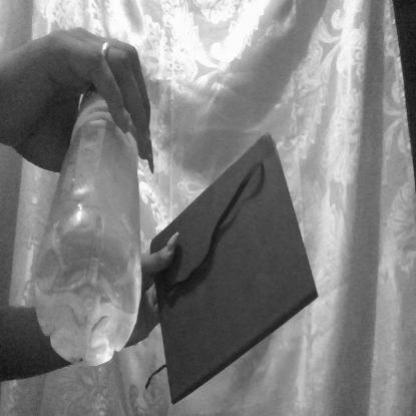Plastic Bottle: (35, 60, 141, 361)
